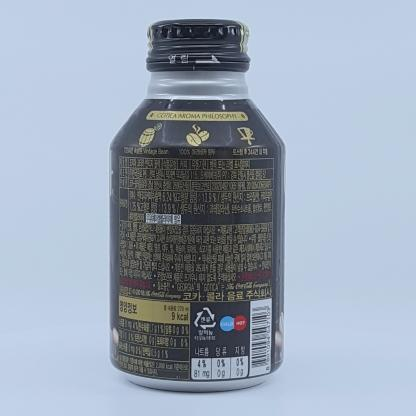---------------270ML: (109, 19, 286, 392)
